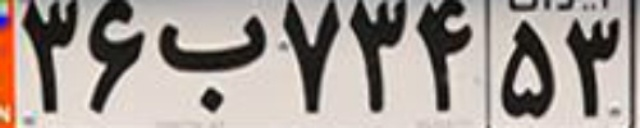3: (347, 0, 408, 114), (16, 0, 78, 112), (564, 17, 619, 119)
4: (416, 0, 475, 112)
5: (498, 18, 556, 118)
6: (85, 0, 146, 113)
7: (278, 0, 342, 113)
be: (155, 13, 267, 113)
